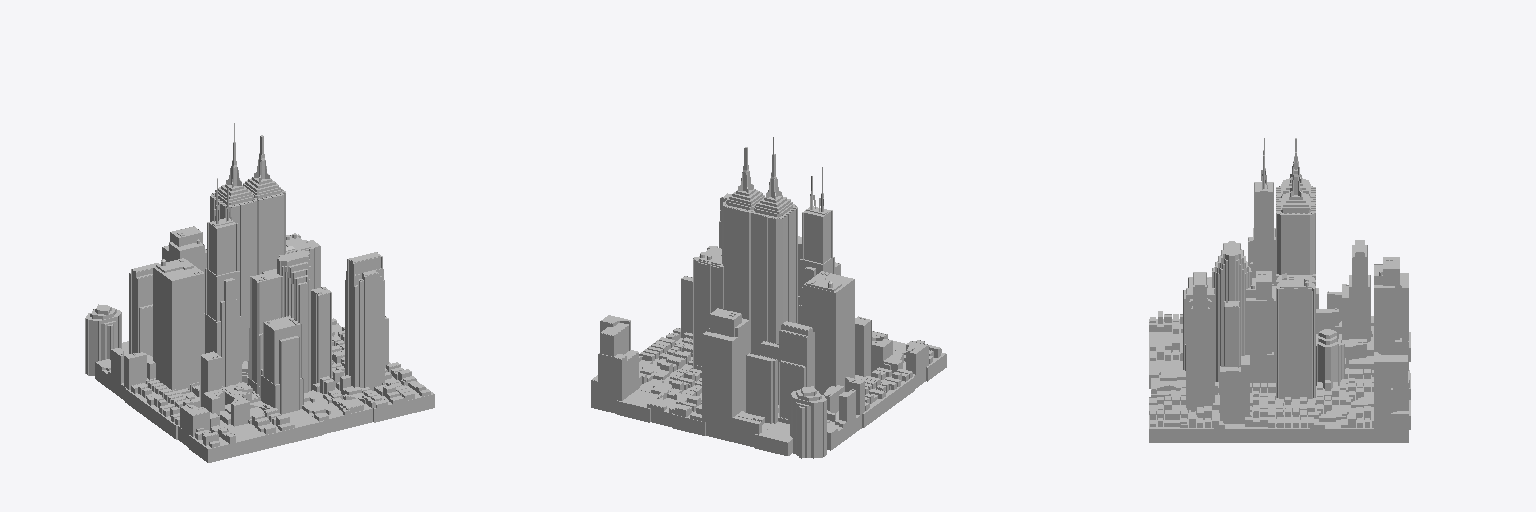
Rendered from building03.obj.
The picture shows the model from 3 angles: view 1: azimuth 30°, elevation 25°; view 2: azimuth 150°, elevation 25°; view 3: azimuth 270°, elevation 25°; orthographic projection.
Parts seen in each view (by area): view 1: Mograph_City_Rig.8; view 2: Mograph_City_Rig.8; view 3: Mograph_City_Rig.8.
Boxes of the visible parts, x1=… form: Mograph_City_Rig.8: x1=85, y1=123, x2=434, y2=462; Mograph_City_Rig.8: x1=591, y1=137, x2=946, y2=458; Mograph_City_Rig.8: x1=1149, y1=138, x2=1410, y2=442.
Size of the model in its own units: 3080 by 3416 by 3075.